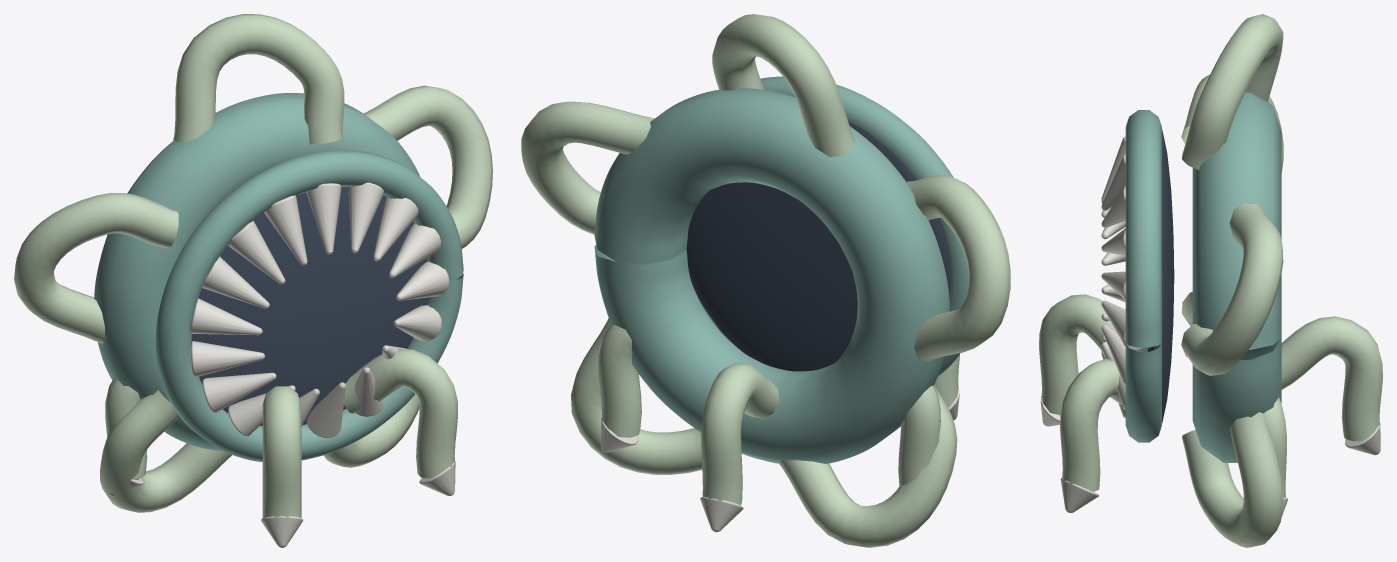
The model's file is bio_spiral_maw_09_near.glb.
3 views of the same model, side by side, from view 1: azimuth 30°, elevation 25°; view 2: azimuth 150°, elevation 25°; view 3: azimuth 270°, elevation 25° (orthographic). The views are drawn at different scales.
Visible parts, largest first — view 1: Rear muscular torus, Recessed mouth cavity, Raised oral lip, Inward tooth, Coiling oral limb.001, Coiling oral limb.002, Coiling oral limb, Coiling oral limb.003, Crooked support.003, Crooked support.002, Coiling oral limb.004, Crooked support.001 (+2 smaller); view 2: Rear muscular torus, Recessed mouth cavity, Coiling oral limb.002, Coiling oral limb.001, Coiling oral limb.003, Coiling oral limb, Crooked support, Coiling oral limb.004, Raised oral lip, Crooked support.004, Crooked support.001, Contact spur (+2 smaller); view 3: Rear muscular torus, Raised oral lip, Coiling oral limb.004, Coiling oral limb, Coiling oral limb.001, Crooked support, Crooked support.003, Crooked support.002, Inward tooth, Recessed mouth cavity, Crooked support.004, Contact spur.003 (+2 smaller).
Part boxes in pixels (left/top/right/bottom): Rear muscular torus: left=94, top=93, right=420, bottom=450; Recessed mouth cavity: left=192, top=187, right=427, bottom=425; Raised oral lip: left=156, top=150, right=463, bottom=461; Inward tooth: left=189, top=182, right=449, bottom=437; Coiling oral limb.001: left=173, top=14, right=344, bottom=144; Coiling oral limb.002: left=14, top=193, right=178, bottom=344; Coiling oral limb: left=363, top=85, right=492, bottom=248; Coiling oral limb.003: left=100, top=390, right=231, bottom=512; Crooked support.003: left=344, top=348, right=457, bottom=478; Crooked support.002: left=262, top=386, right=301, bottom=523; Coiling oral limb.004: left=323, top=394, right=419, bottom=467; Crooked support.001: left=105, top=378, right=147, bottom=479; Rear muscular torus: left=594, top=88, right=949, bottom=463; Recessed mouth cavity: left=686, top=121, right=950, bottom=371; Coiling oral limb.002: left=907, top=175, right=1010, bottom=361; Coiling oral limb.001: left=712, top=14, right=854, bottom=156; Coiling oral limb.003: left=777, top=385, right=957, bottom=547; Coiling oral limb: left=521, top=101, right=654, bottom=234; Crooked support: left=701, top=363, right=779, bottom=507; Coiling oral limb.004: left=571, top=318, right=702, bottom=474; Raised oral lip: left=702, top=76, right=968, bottom=376; Crooked support.004: left=598, top=325, right=641, bottom=437; Crooked support.001: left=898, top=385, right=940, bottom=486; Contact spur: left=700, top=497, right=743, bottom=532; Rear muscular torus: left=1192, top=92, right=1281, bottom=462; Raised oral lip: left=1125, top=110, right=1161, bottom=442; Coiling oral limb.004: left=1182, top=412, right=1283, bottom=547; Coiling oral limb: left=1181, top=202, right=1283, bottom=375; Coiling oral limb.001: left=1182, top=14, right=1283, bottom=169; Crooked support: left=1281, top=316, right=1382, bottom=441; Crooked support.003: left=1060, top=358, right=1121, bottom=491; Crooked support.002: left=1039, top=294, right=1116, bottom=415; Inward tooth: left=1101, top=136, right=1142, bottom=417; Recessed mouth cavity: left=1148, top=129, right=1174, bottom=422; Crooked support.004: left=1264, top=397, right=1286, bottom=497; Contact spur.003: left=1060, top=478, right=1099, bottom=513.
Size of the model in its own units: 2.63 by 2.57 by 1.7.
